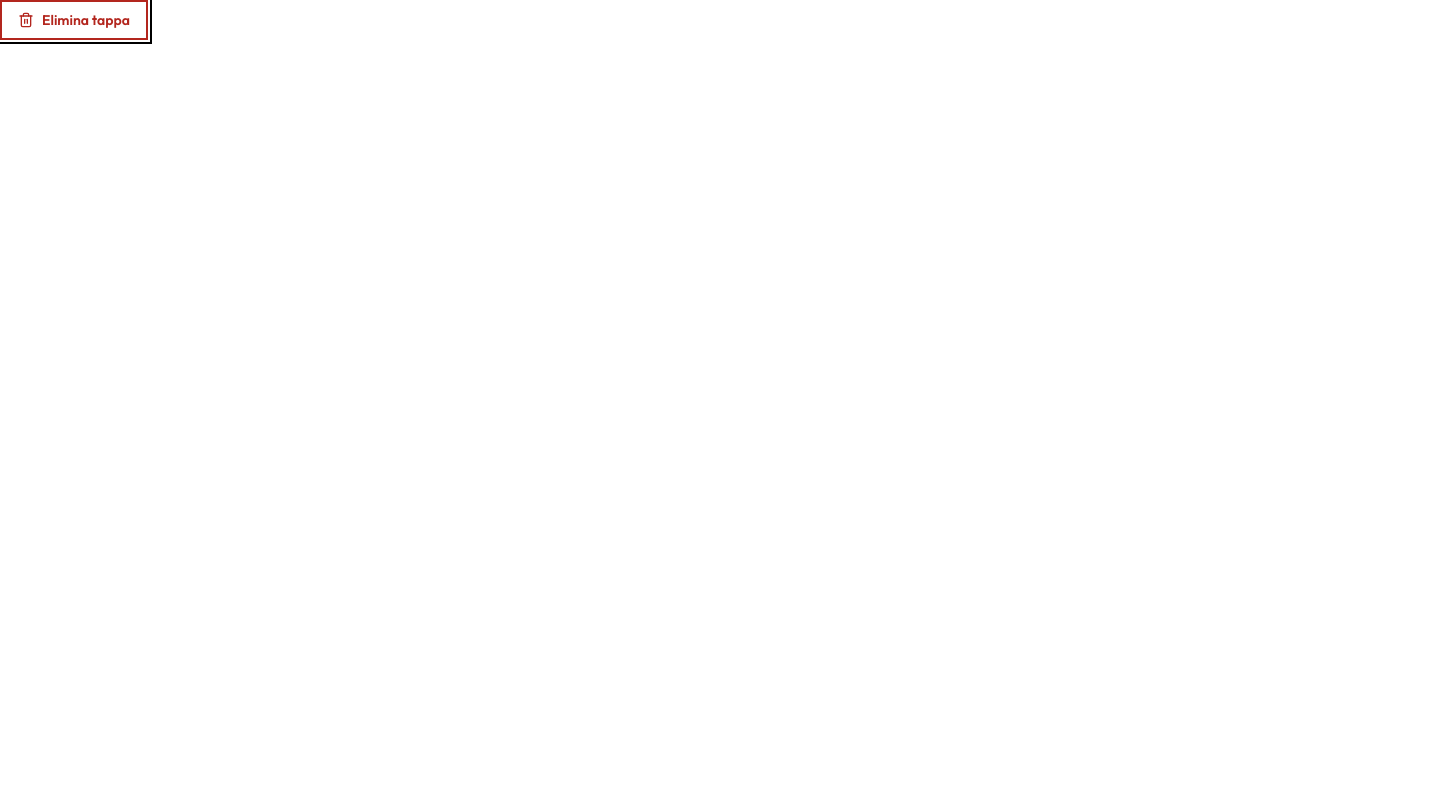
it: EliminaTappa › conferma: invia tappa e parola, chiude e annuncia l'esito
The image size is (1440, 810).
Press Enter
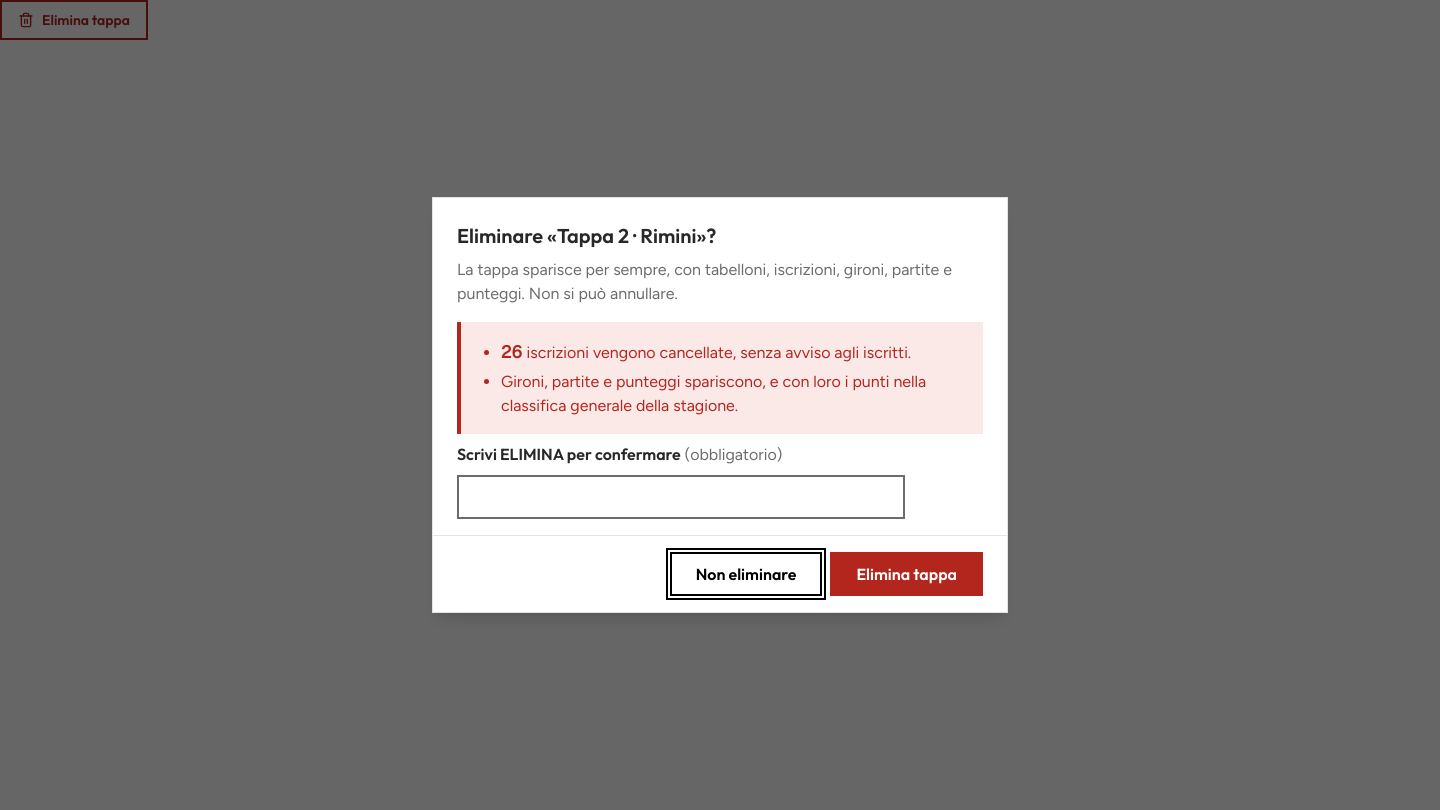
In the field labelled "Scrivi ELIMINA per confermare (obbligatorio)": [681, 497] box [457,475,905,519], type "elimina"
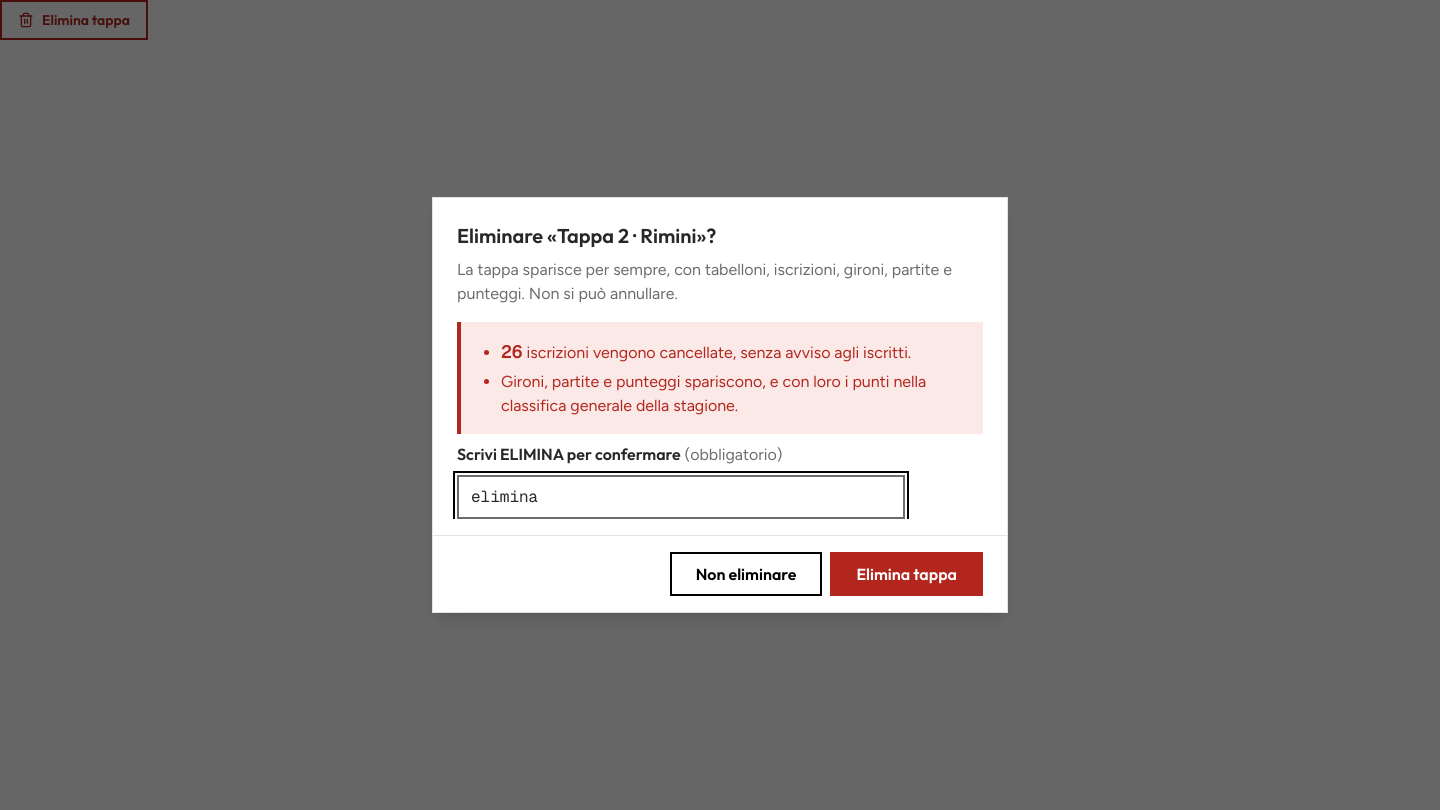
Click the button "Elimina tappa": [907, 574] box [830,552,983,596]
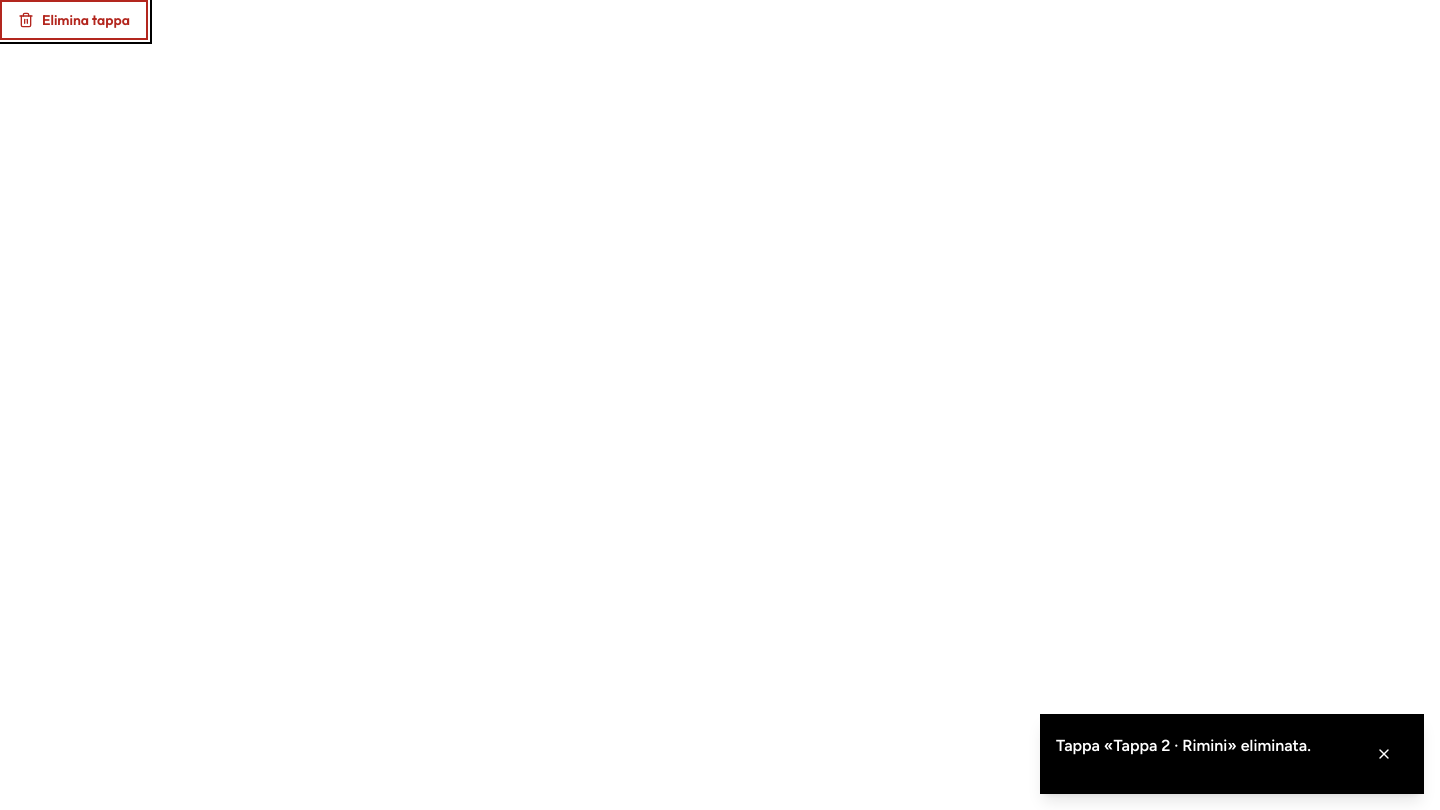
expect the heading "Tappa «Tappa 2 · Rimini» eliminata." is shown: met, box [1056,734,1348,758]
